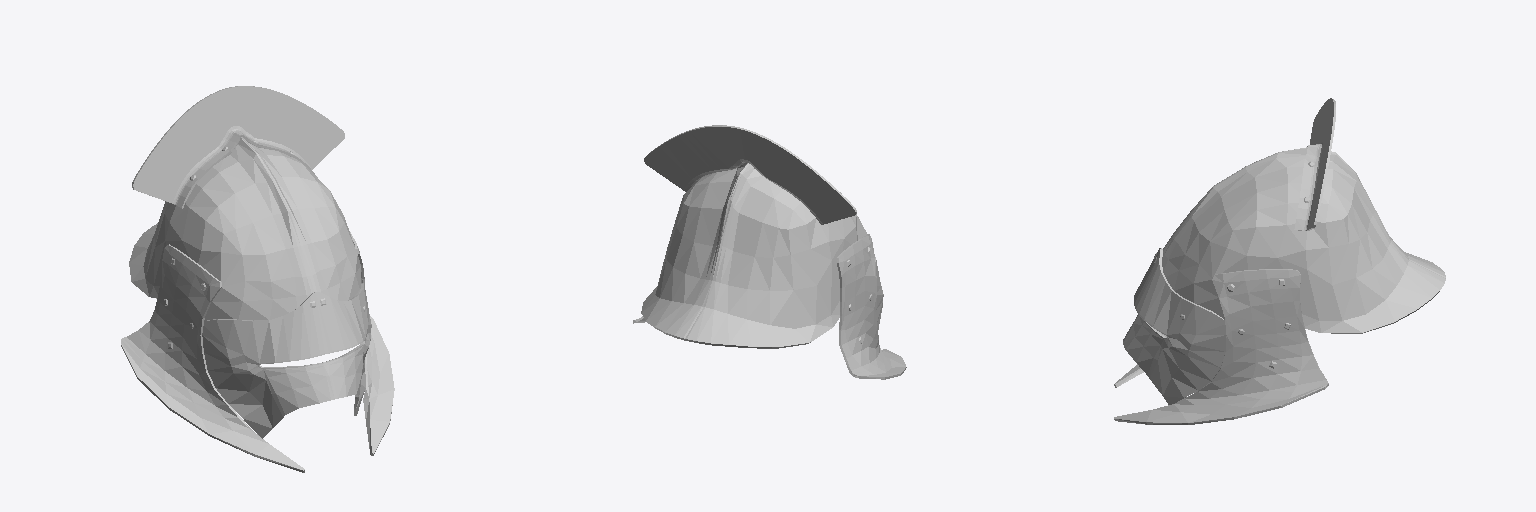
Rendered from helmet.obj.
3 renders of one model, left to right at view 1: azimuth 30°, elevation 25°; view 2: azimuth 150°, elevation 25°; view 3: azimuth 270°, elevation 25°, orthographic.
Parts seen in each view (by area): view 1: sides_low.004_Plane.034; view 2: sides_low.004_Plane.034; view 3: sides_low.004_Plane.034.
Part boxes in pixels (x1,y1,x2,y2): sides_low.004_Plane.034: (121, 86, 394, 472); sides_low.004_Plane.034: (633, 125, 906, 379); sides_low.004_Plane.034: (1114, 98, 1445, 424).
Size of the model in its own units: 0.326 by 0.391 by 0.3973.